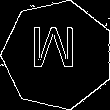M_S: (34, 30, 81, 80)
